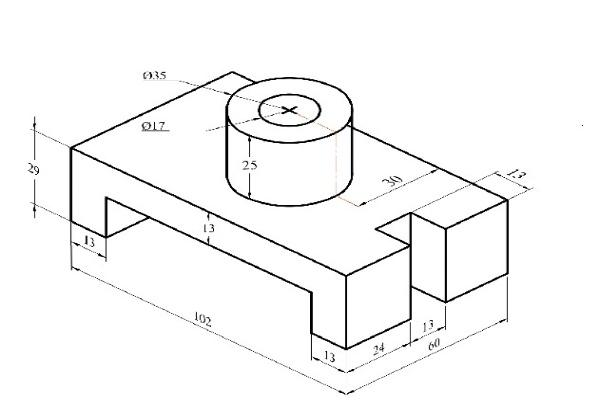dimensions: (137, 64, 173, 85), (137, 116, 171, 136), (187, 307, 215, 331), (503, 164, 532, 186), (380, 171, 404, 193), (239, 154, 262, 174), (21, 161, 43, 181), (369, 341, 393, 359), (424, 336, 447, 354), (79, 232, 99, 250), (321, 347, 338, 366), (419, 317, 437, 334), (198, 221, 218, 236)
